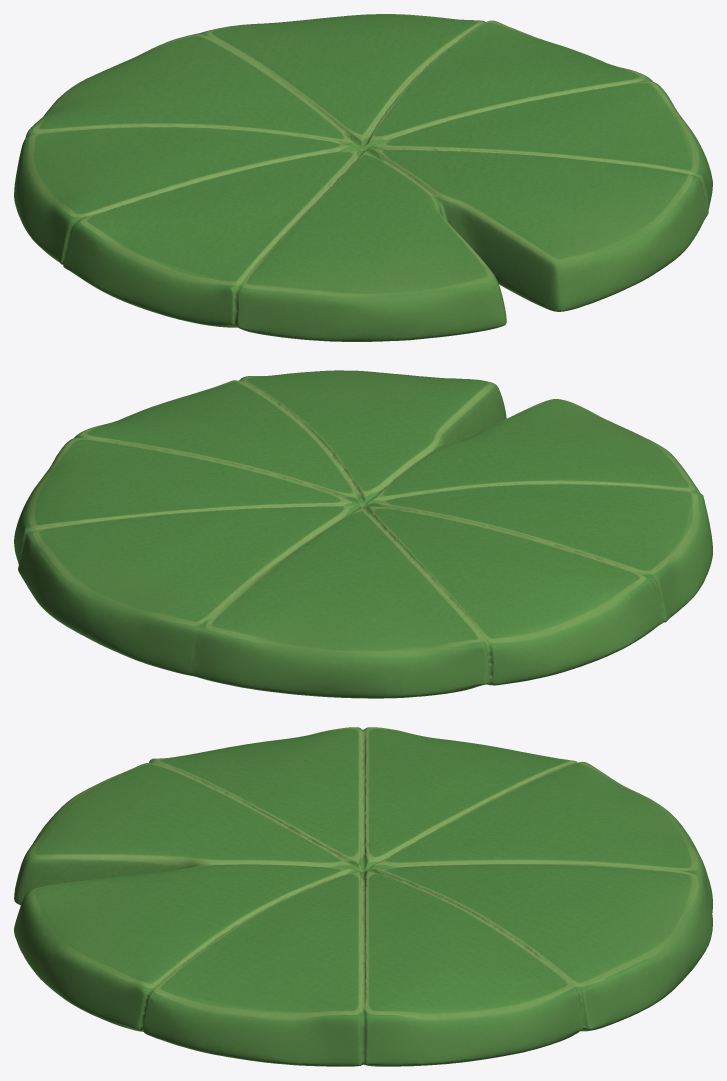
Rendered from meshy-froggy-lily-pad.glb.
The picture shows the model from 3 angles, top to bottom: view 1: azimuth 30°, elevation 25°; view 2: azimuth 150°, elevation 25°; view 3: azimuth 270°, elevation 25°; orthographic projection. The views are drawn at different scales.
Bounding box in the file's own units: 1.9 × 0.1889 × 1.86.
Materials: 1 (1 with a texture image).
